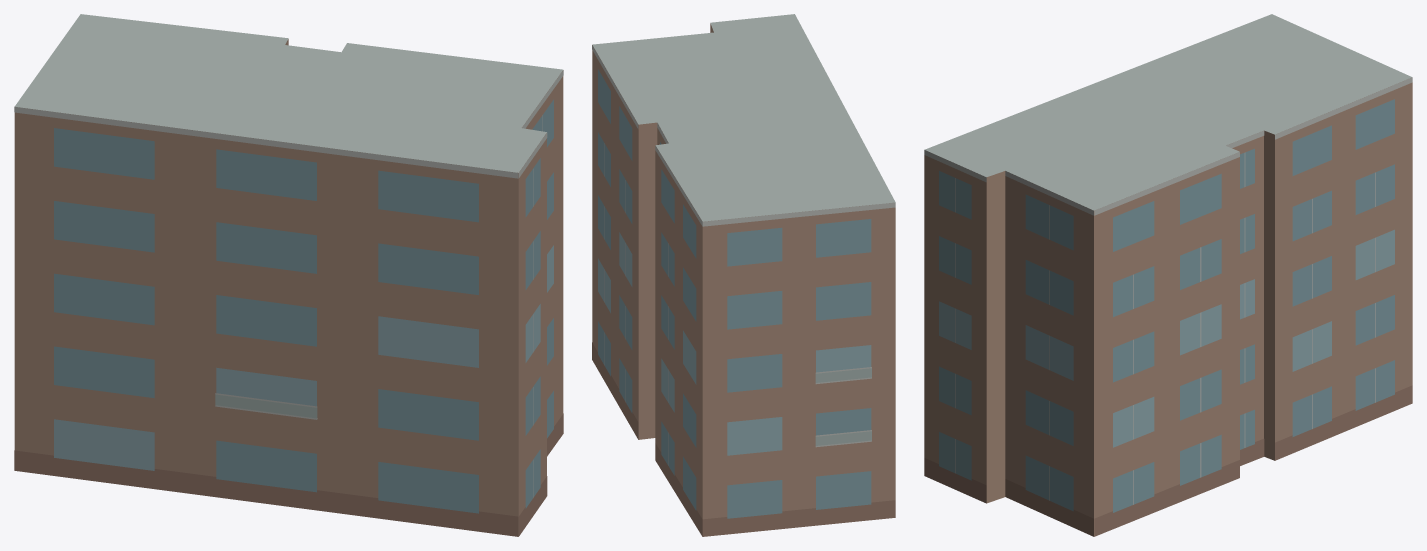
Rendered from survey-upis-32689942.glb.
3 renders of one model, left to right at view 1: azimuth 30°, elevation 25°; view 2: azimuth 150°, elevation 25°; view 3: azimuth 270°, elevation 25°, orthographic. The views are drawn at different scales.
Parts seen in each view (by area): view 1: survey-upis-32689942.tmp; view 2: survey-upis-32689942.tmp; view 3: survey-upis-32689942.tmp.
Part boxes in pixels (x1,y1,x2,y2): survey-upis-32689942.tmp: [14, 14, 563, 536]; survey-upis-32689942.tmp: [592, 14, 895, 536]; survey-upis-32689942.tmp: [924, 14, 1412, 536].
Size of the model in its own units: 19.89 by 15.38 by 20.86.
